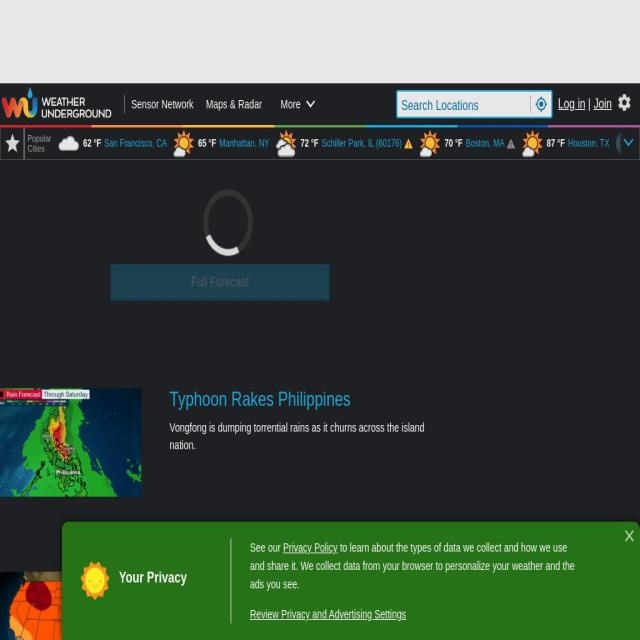button: (0, 388, 142, 555), (0, 571, 142, 640), (110, 264, 330, 301), (2, 83, 125, 125), (272, 128, 417, 159), (55, 128, 170, 159), (416, 128, 519, 159), (125, 125, 201, 167), (170, 128, 272, 159), (125, 83, 200, 125), (518, 128, 613, 159), (199, 83, 269, 125), (200, 125, 268, 167), (250, 606, 406, 623), (268, 125, 328, 167), (274, 83, 320, 125), (609, 83, 640, 125), (612, 128, 640, 159), (1, 128, 24, 159), (622, 526, 637, 542)
field: (397, 90, 552, 118)
heading: (169, 571, 400, 593), (170, 388, 352, 410), (119, 567, 212, 588)
image: (0, 4, 640, 79), (0, 388, 142, 498), (0, 571, 142, 640), (81, 556, 110, 606), (608, 128, 640, 159), (172, 129, 195, 158), (419, 129, 442, 158), (275, 129, 297, 158), (521, 129, 543, 158), (616, 129, 638, 158), (59, 129, 80, 158)
link: (282, 541, 338, 554), (4, 128, 21, 159), (558, 97, 586, 111), (593, 97, 612, 111), (404, 137, 414, 151), (506, 137, 516, 151)
text: (250, 541, 575, 591), (169, 602, 440, 638), (169, 419, 440, 454), (104, 128, 167, 144), (321, 138, 404, 149), (131, 97, 194, 111), (132, 139, 194, 153), (219, 128, 269, 144), (206, 97, 262, 111), (206, 139, 262, 153), (274, 139, 322, 153), (568, 128, 610, 144), (466, 138, 506, 149), (250, 541, 283, 554), (530, 95, 548, 113), (617, 92, 632, 112), (622, 526, 637, 546), (281, 97, 301, 111), (28, 134, 53, 144), (27, 144, 45, 154), (585, 97, 594, 111), (444, 138, 454, 149), (300, 138, 309, 149), (546, 138, 555, 149), (83, 138, 91, 149), (198, 138, 206, 149), (96, 138, 102, 149), (560, 138, 565, 149), (212, 138, 216, 149), (314, 138, 318, 149), (458, 138, 462, 149)
